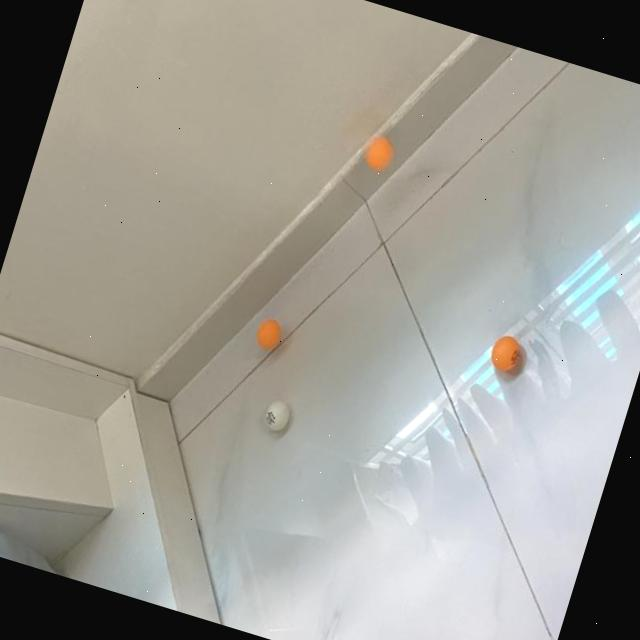ping-pong-ball: (485, 329, 525, 375), (360, 132, 398, 172), (262, 396, 292, 431), (255, 314, 282, 349)
